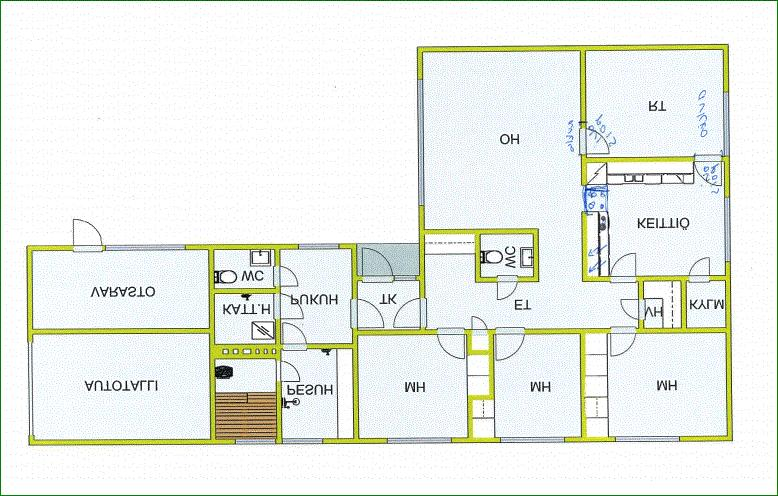door: (361, 244, 395, 284), (392, 298, 429, 330), (494, 324, 524, 362), (348, 298, 386, 328), (72, 218, 103, 254), (580, 124, 612, 157), (609, 251, 641, 283), (435, 327, 466, 359), (609, 324, 638, 358), (694, 153, 724, 184), (272, 291, 304, 320), (687, 256, 714, 284), (495, 272, 520, 302), (282, 320, 307, 350), (272, 264, 302, 288), (274, 358, 302, 383), (620, 296, 644, 321), (470, 315, 489, 336)
window: (414, 74, 428, 211), (720, 87, 732, 161), (104, 242, 192, 252), (609, 432, 682, 444), (721, 194, 733, 266), (380, 435, 456, 446), (496, 434, 570, 445), (294, 242, 342, 254), (232, 436, 280, 448), (278, 437, 328, 446), (390, 274, 419, 283)
